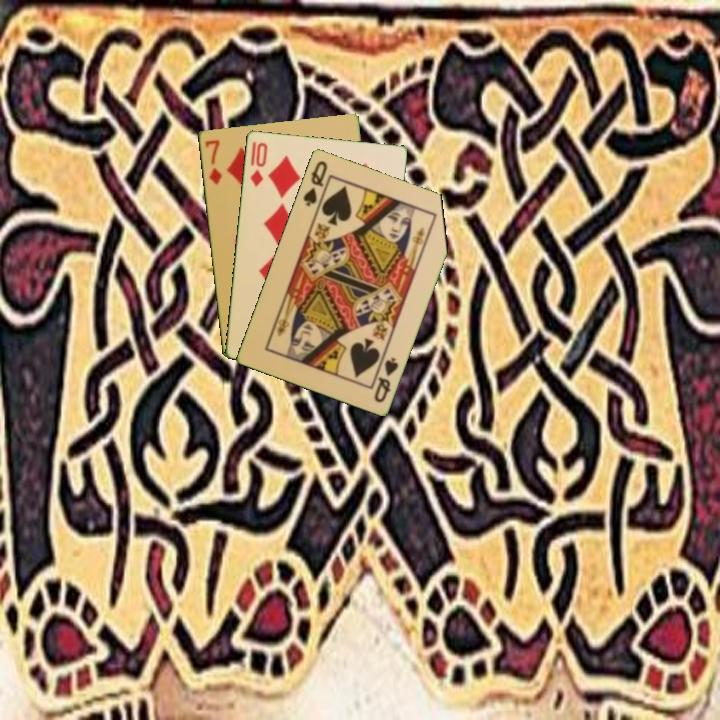10d: (246, 139, 270, 189)
7d: (201, 136, 224, 187)
Qs: (369, 351, 401, 405), (299, 157, 330, 209)
